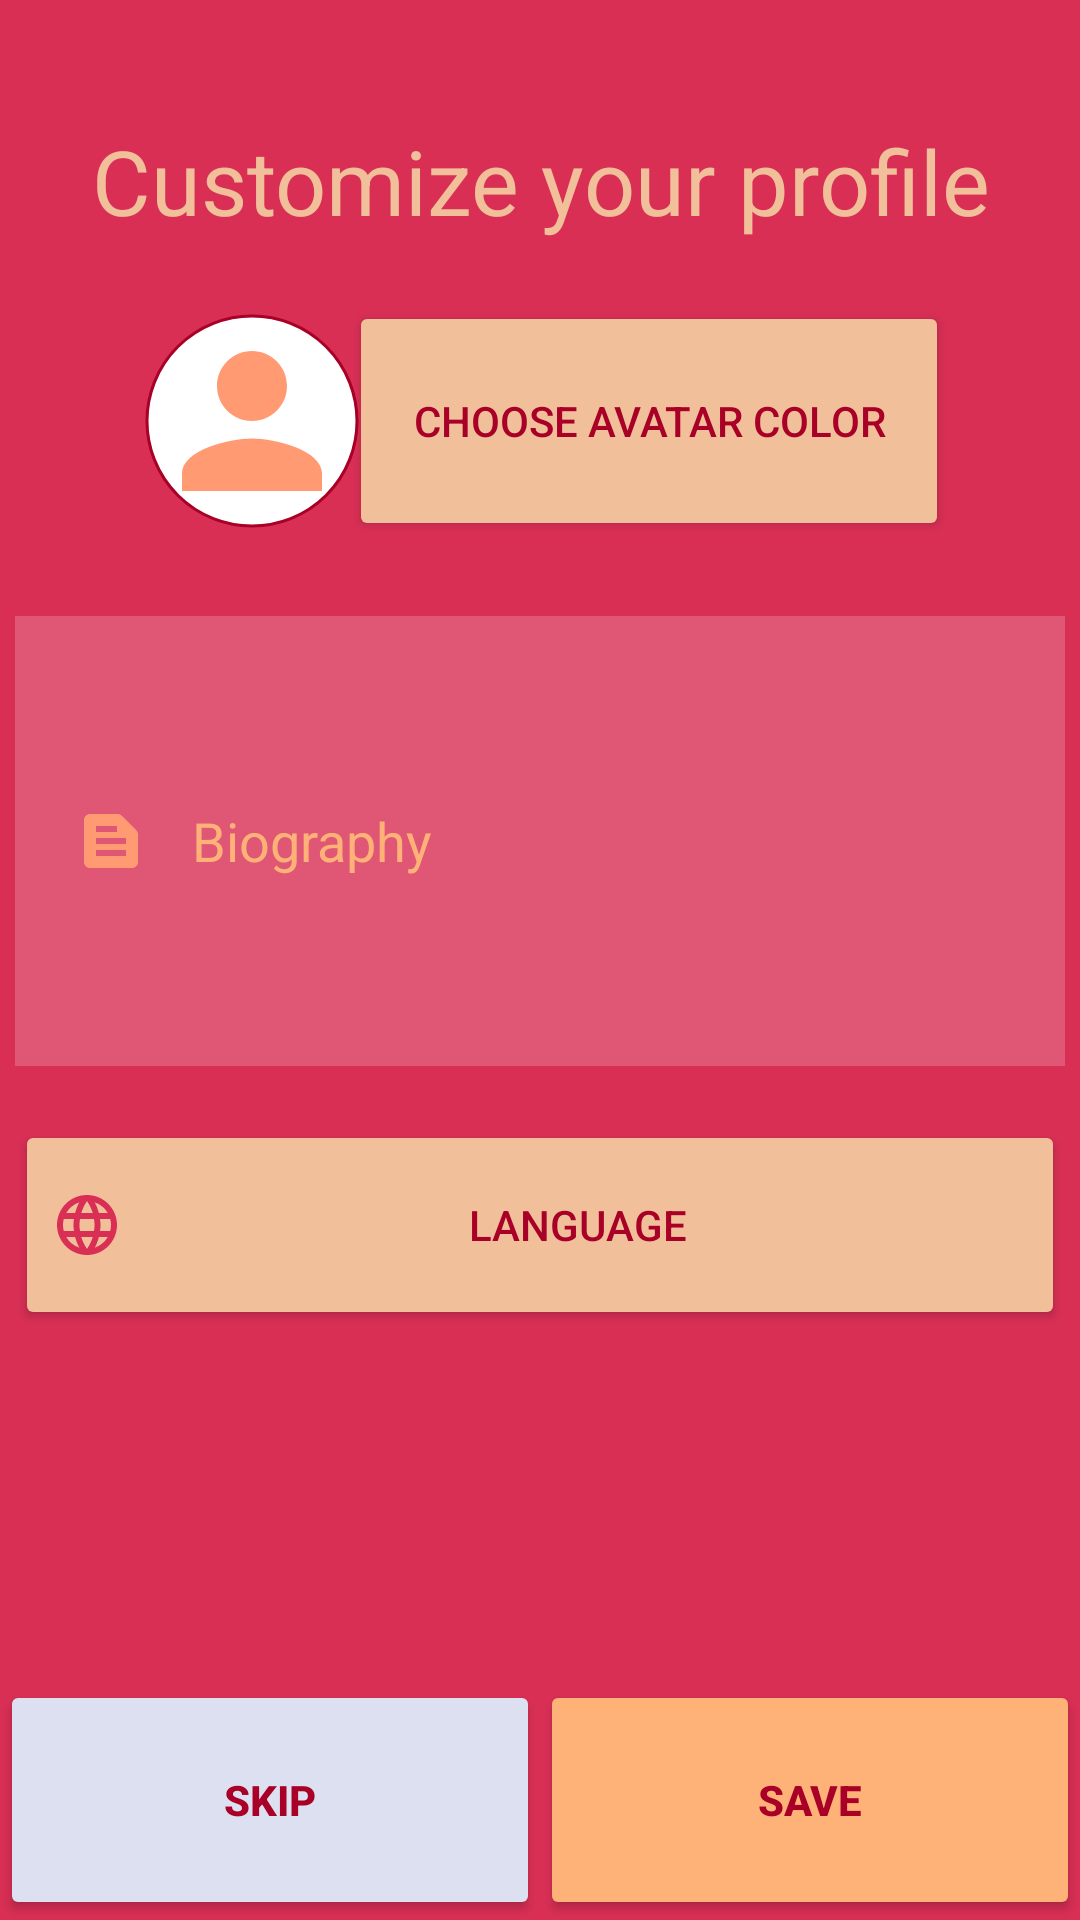

Icon bounding boxes for this 1080w x 1920h phone screenshot, format detection(x1, y1, x2, y2):
person: detection(146, 315, 359, 527)
